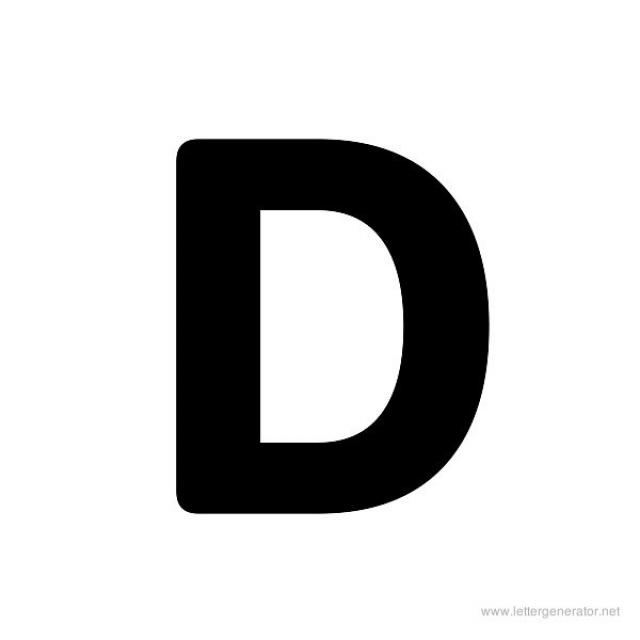D: (124, 90, 503, 564)
